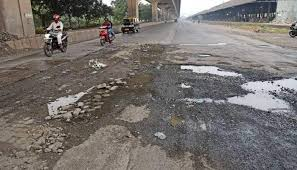potholes: (174, 60, 245, 82)
